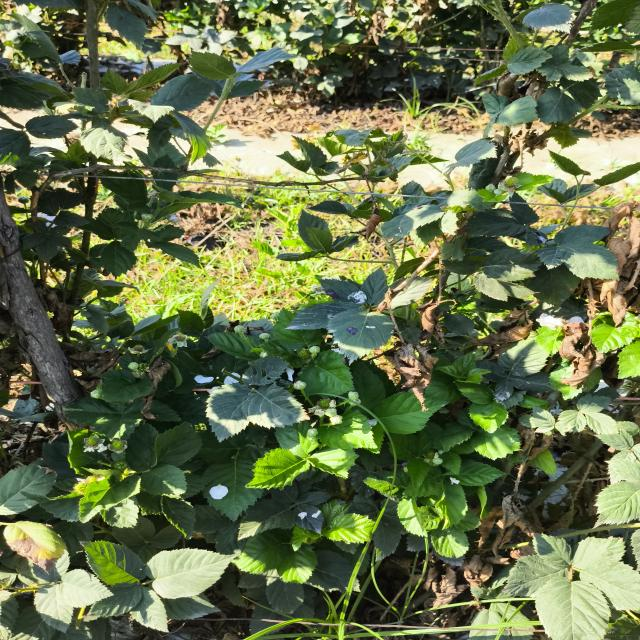boton: (307, 428, 318, 440), (348, 391, 360, 402), (293, 380, 306, 390), (234, 325, 248, 333), (258, 332, 270, 341), (309, 346, 320, 355), (90, 389, 101, 398), (128, 362, 139, 370), (260, 351, 268, 358)
